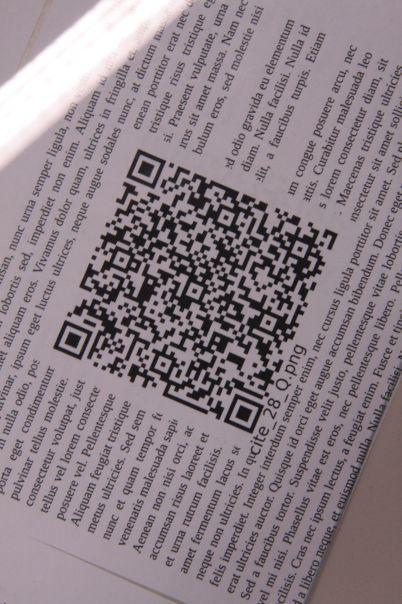Finder pattern: (223, 394, 270, 438), (51, 322, 95, 363), (126, 151, 166, 190)
